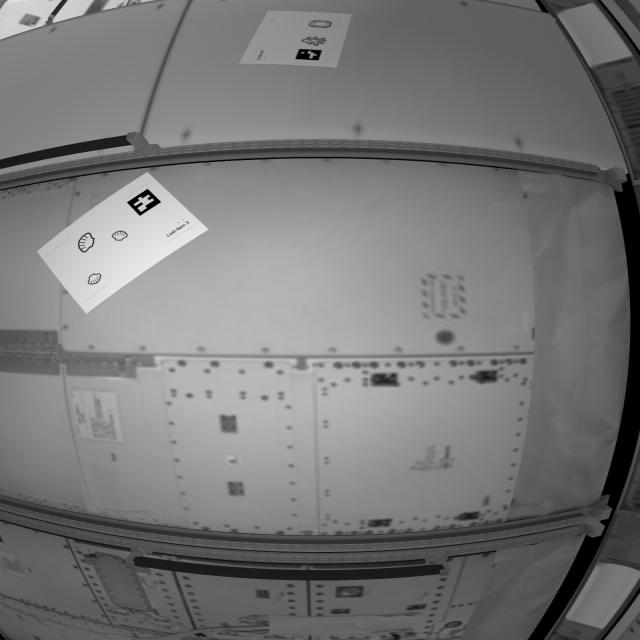shell: (78, 232, 98, 255), (110, 230, 132, 245), (87, 273, 106, 287)
